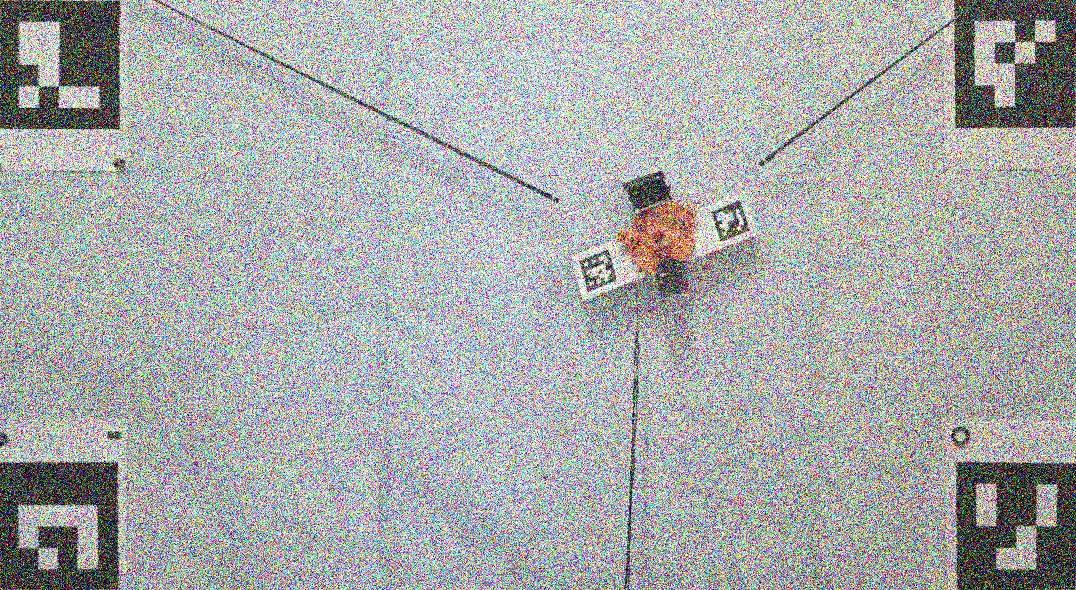robot: (618, 172, 698, 293)
